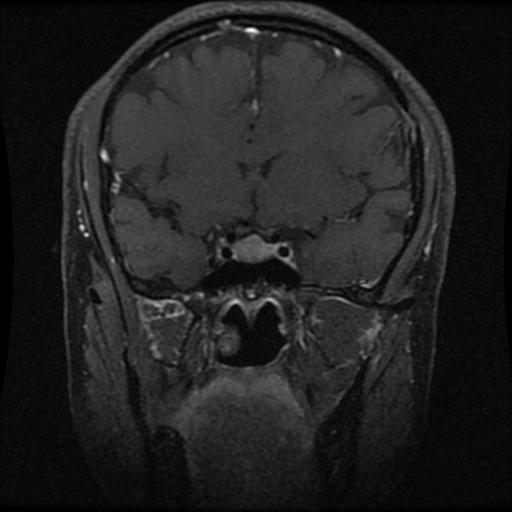Pituirity_tumour: (232, 235, 273, 258)
